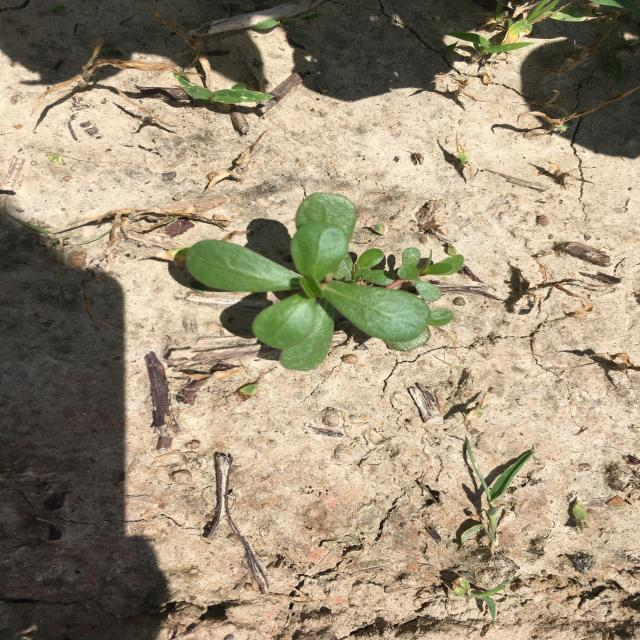Purslane: (186, 192, 464, 371)
